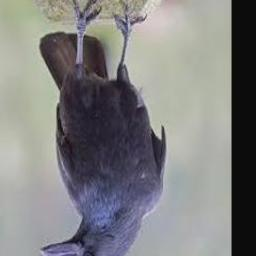Crow: (38, 0, 166, 256)
